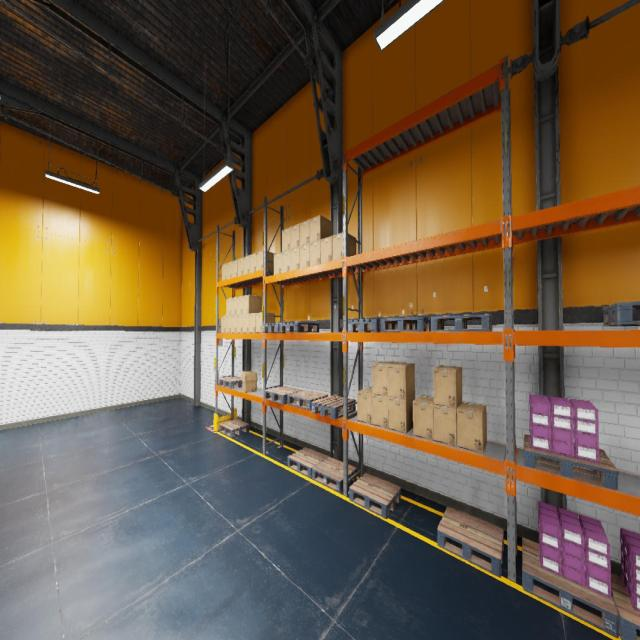box: (457, 402, 487, 453), (433, 402, 462, 446), (433, 366, 462, 408), (388, 394, 415, 432), (388, 362, 415, 398), (413, 396, 433, 440), (372, 361, 396, 396), (332, 232, 356, 260), (310, 215, 332, 242), (372, 394, 388, 429), (357, 388, 372, 423), (256, 250, 276, 271), (240, 370, 258, 392), (256, 312, 275, 332), (243, 294, 261, 314), (320, 236, 332, 263), (290, 223, 300, 249), (310, 240, 320, 265), (300, 219, 309, 246), (290, 247, 300, 270), (300, 243, 309, 268), (282, 227, 290, 252), (282, 250, 290, 272), (274, 252, 281, 274), (243, 255, 250, 274), (250, 252, 256, 272), (249, 313, 255, 332), (237, 257, 243, 276), (242, 314, 248, 332), (231, 297, 237, 315), (226, 262, 232, 278), (237, 314, 242, 333), (237, 296, 242, 314), (232, 260, 237, 278), (226, 298, 231, 315), (231, 316, 236, 332), (226, 316, 231, 332), (221, 316, 226, 332), (222, 263, 226, 280)
pallets: (522, 538, 618, 638), (524, 434, 618, 490), (437, 507, 504, 577), (349, 473, 401, 518), (610, 573, 640, 639), (312, 457, 356, 492), (287, 448, 328, 478), (311, 395, 355, 419), (430, 314, 492, 331), (602, 301, 640, 326), (287, 390, 328, 410), (380, 317, 430, 331), (264, 386, 301, 404), (219, 419, 249, 437), (348, 319, 380, 332), (279, 322, 319, 332), (218, 376, 242, 388), (262, 323, 286, 332)
